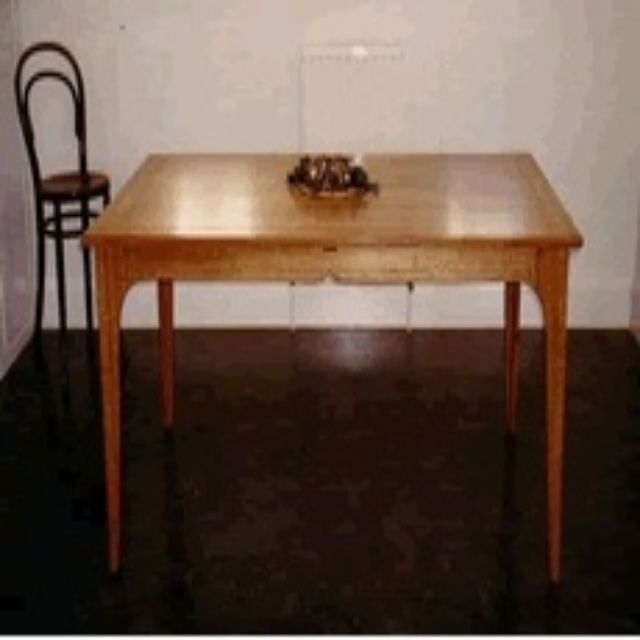obstacle: (83, 154, 579, 576)
